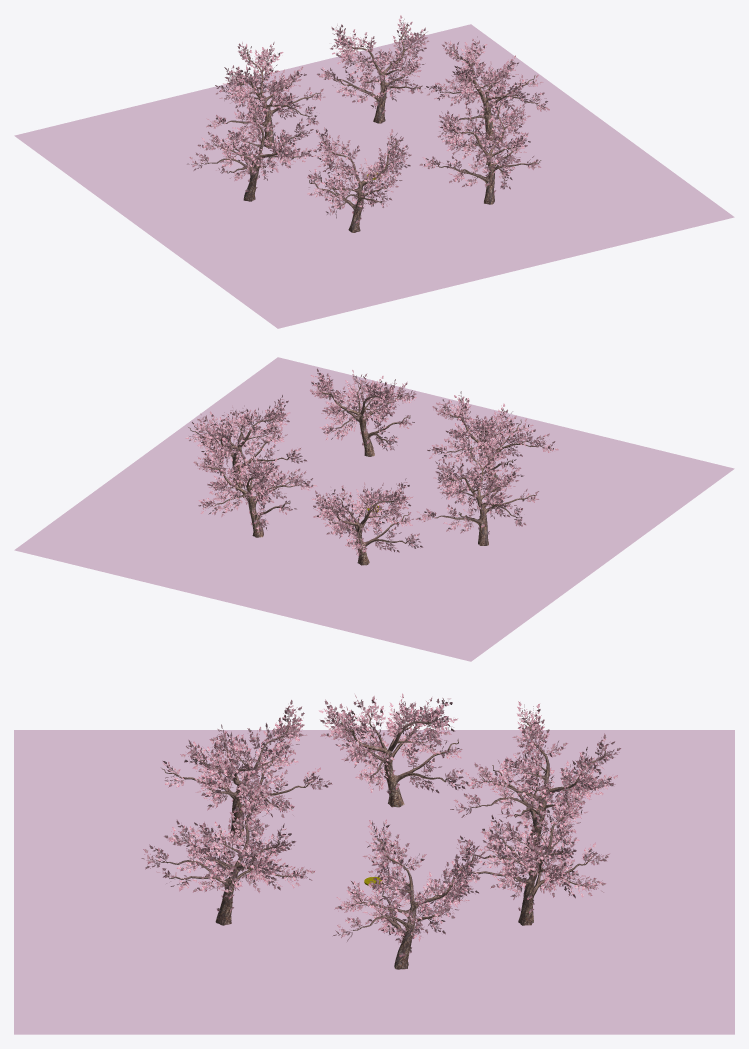
File: map.glb
3 renders of one model, top to bottom at view 1: azimuth 30°, elevation 25°; view 2: azimuth 150°, elevation 25°; view 3: azimuth 270°, elevation 25°, orthographic. The views are drawn at different scales.
Visible parts, largest first — view 1: Plane, Object002_sakura_branch_new01_1Mat_0.006, Object002_sakura_branch_new01_1Mat_0.004, Object002_sakura_branch_new01_1Mat_0.001, Object002_sakura_branch_new01_1Mat_0, Object002_sakura_branch_new01_1Mat_0.005, Object002_sakura_branch_new01_1Mat_0.002, Object001_mossybark02_0Mat_0.004, Object001_mossybark02_0Mat_0.006, Object001_mossybark02_0Mat_0.001, Object001_mossybark02_0Mat_0.005, Object001_mossybark02_0Mat_0.002 (+1 smaller); view 2: Plane, Object002_sakura_branch_new01_1Mat_0.005, Object002_sakura_branch_new01_1Mat_0.006, Object002_sakura_branch_new01_1Mat_0.001, Object002_sakura_branch_new01_1Mat_0.002, Object002_sakura_branch_new01_1Mat_0.004, Object002_sakura_branch_new01_1Mat_0, Object001_mossybark02_0Mat_0.005, Object001_mossybark02_0Mat_0.004, Object001_mossybark02_0Mat_0.002, Object001_mossybark02_0Mat_0.006, Object001_mossybark02_0Mat_0 (+1 smaller); view 3: Plane, Object002_sakura_branch_new01_1Mat_0.004, Object002_sakura_branch_new01_1Mat_0, Object002_sakura_branch_new01_1Mat_0.006, Object002_sakura_branch_new01_1Mat_0.001, Object002_sakura_branch_new01_1Mat_0.005, Object002_sakura_branch_new01_1Mat_0.002, Object001_mossybark02_0Mat_0.005, Object001_mossybark02_0Mat_0, Object001_mossybark02_0Mat_0.006, Object001_mossybark02_0Mat_0.004, Object001_mossybark02_0Mat_0.002 (+1 smaller).
Part boxes in pixels (left/top/right/bottom): Plane: left=14, top=24, right=734, bottom=328; Object002_sakura_branch_new01_1Mat_0.006: left=317, top=15, right=428, bottom=113; Object002_sakura_branch_new01_1Mat_0.004: left=419, top=95, right=540, bottom=193; Object002_sakura_branch_new01_1Mat_0.001: left=307, top=127, right=411, bottom=223; Object002_sakura_branch_new01_1Mat_0: left=426, top=36, right=549, bottom=131; Object002_sakura_branch_new01_1Mat_0.005: left=187, top=89, right=315, bottom=191; Object002_sakura_branch_new01_1Mat_0.002: left=206, top=42, right=325, bottom=135; Object001_mossybark02_0Mat_0.004: left=436, top=104, right=541, bottom=204; Object001_mossybark02_0Mat_0.006: left=330, top=25, right=422, bottom=123; Object001_mossybark02_0Mat_0.001: left=309, top=140, right=397, bottom=232; Object001_mossybark02_0Mat_0.005: left=201, top=104, right=301, bottom=201; Object001_mossybark02_0Mat_0.002: left=217, top=49, right=322, bottom=147; Plane: left=14, top=357, right=734, bottom=661; Object002_sakura_branch_new01_1Mat_0.005: left=415, top=438, right=538, bottom=534; Object002_sakura_branch_new01_1Mat_0.006: left=193, top=442, right=316, bottom=533; Object002_sakura_branch_new01_1Mat_0.001: left=427, top=391, right=558, bottom=486; Object002_sakura_branch_new01_1Mat_0.002: left=312, top=478, right=422, bottom=555; Object002_sakura_branch_new01_1Mat_0.004: left=310, top=368, right=416, bottom=450; Object002_sakura_branch_new01_1Mat_0: left=185, top=395, right=306, bottom=478; Object001_mossybark02_0Mat_0.005: left=431, top=445, right=538, bottom=545; Object001_mossybark02_0Mat_0.004: left=317, top=383, right=410, bottom=456; Object001_mossybark02_0Mat_0.002: left=323, top=494, right=411, bottom=565; Object001_mossybark02_0Mat_0.006: left=204, top=460, right=300, bottom=537; Object001_mossybark02_0Mat_0: left=188, top=408, right=294, bottom=487; Plane: left=14, top=730, right=734, bottom=1034; Object002_sakura_branch_new01_1Mat_0.004: left=141, top=774, right=314, bottom=912; Object002_sakura_branch_new01_1Mat_0: left=333, top=819, right=485, bottom=957; Object002_sakura_branch_new01_1Mat_0.006: left=450, top=779, right=609, bottom=913; Object002_sakura_branch_new01_1Mat_0.001: left=163, top=700, right=332, bottom=826; Object002_sakura_branch_new01_1Mat_0.005: left=319, top=693, right=465, bottom=793; Object002_sakura_branch_new01_1Mat_0.002: left=450, top=701, right=620, bottom=837; Object001_mossybark02_0Mat_0.005: left=336, top=709, right=458, bottom=807; Object001_mossybark02_0Mat_0: left=348, top=838, right=473, bottom=969; Object001_mossybark02_0Mat_0.006: left=461, top=800, right=593, bottom=925; Object001_mossybark02_0Mat_0.004: left=155, top=795, right=292, bottom=925; Object001_mossybark02_0Mat_0.002: left=470, top=721, right=605, bottom=853.
Size of the model in its own units: 24.83 by 4.79 by 24.83.
4 materials, 2 textured.
